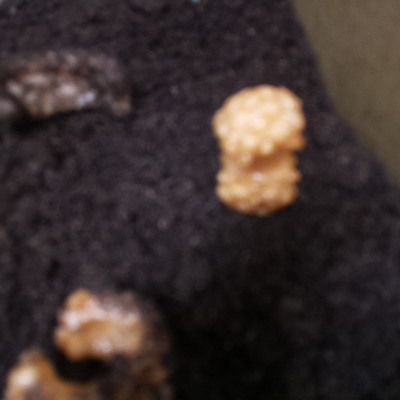eggs: (1, 275, 189, 399), (201, 78, 309, 217), (1, 44, 143, 131)
